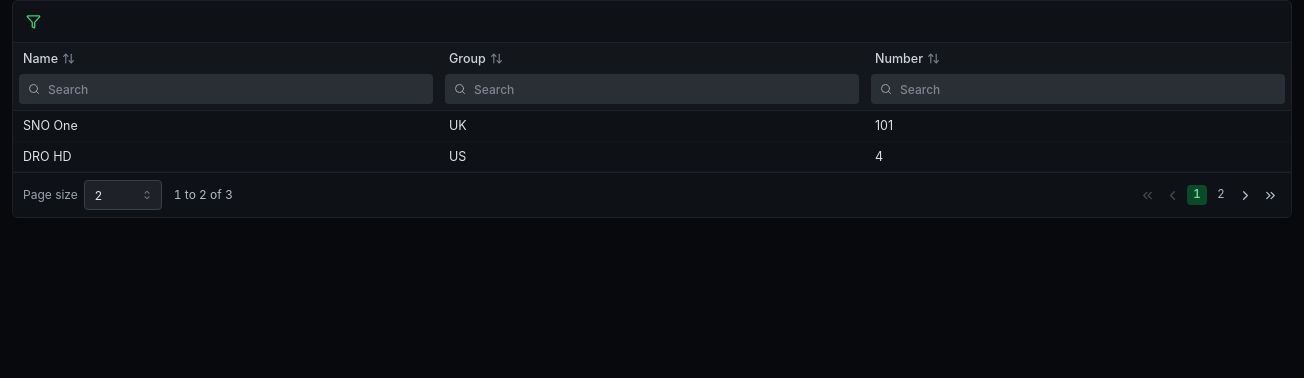
Test: DataTable › changes the page size
Click the field named "Page size" at (123, 195), box [84,180,162,210]
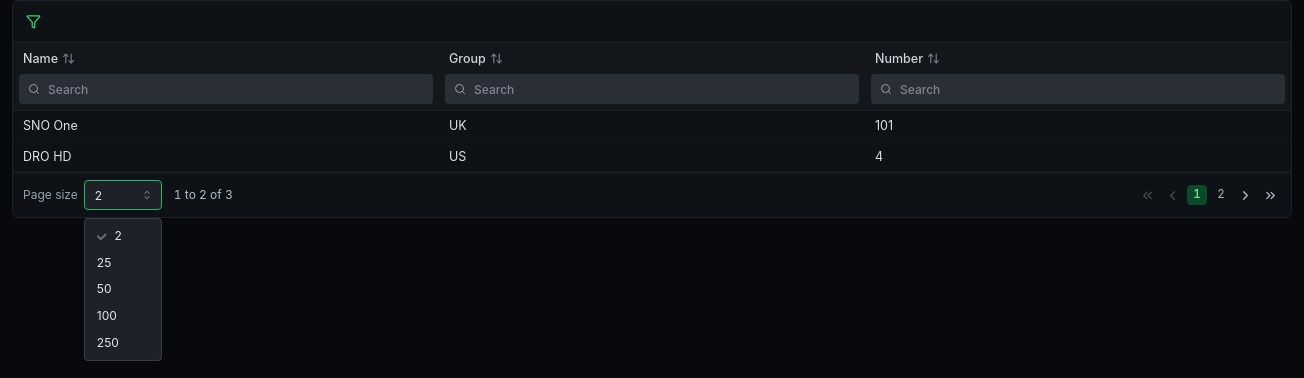
Click the option "25" at (104, 262), box [97,255,111,270]
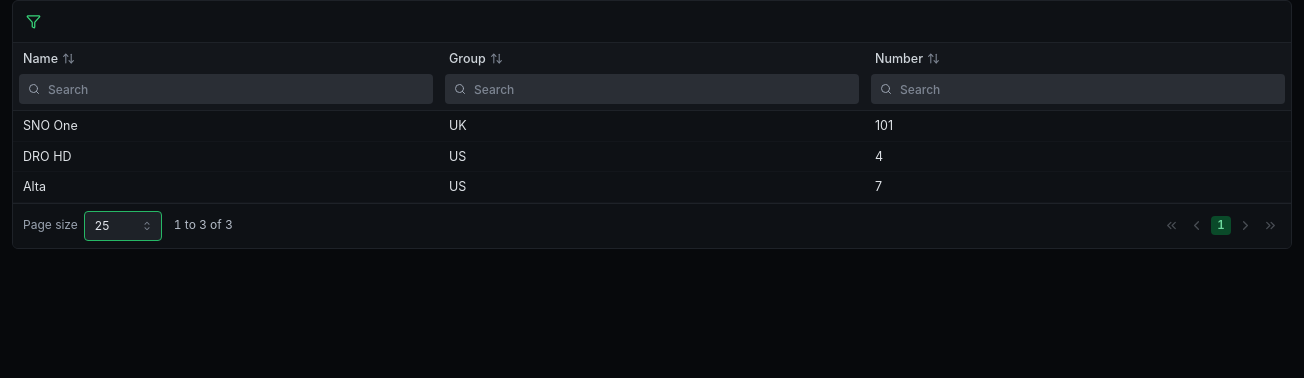
Now the text "1 to 3 of 3" is shown, box [174,216,233,235]
